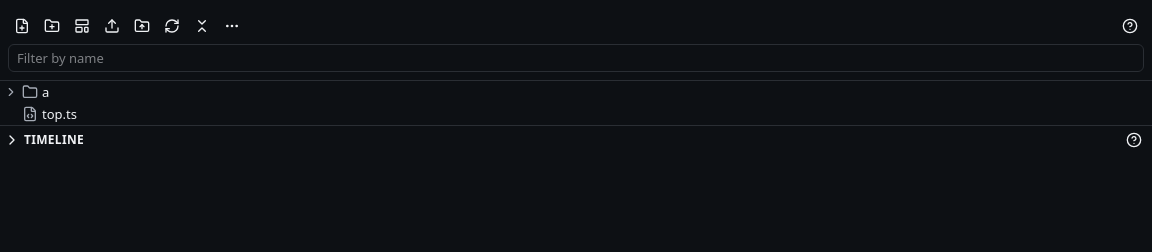
it: what the tree shows — B-25 › shows single folders together, and the preference shows them apart — S-164
Click the list item "a" at (27, 92), box [4, 83, 49, 101]
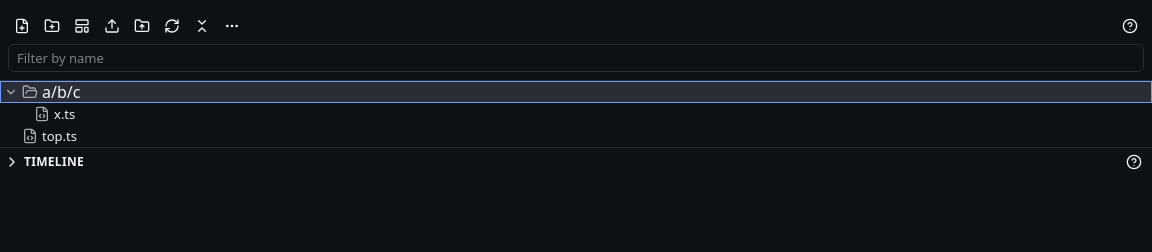
Click the button named "More options" at (232, 26), box [218, 12, 246, 40]
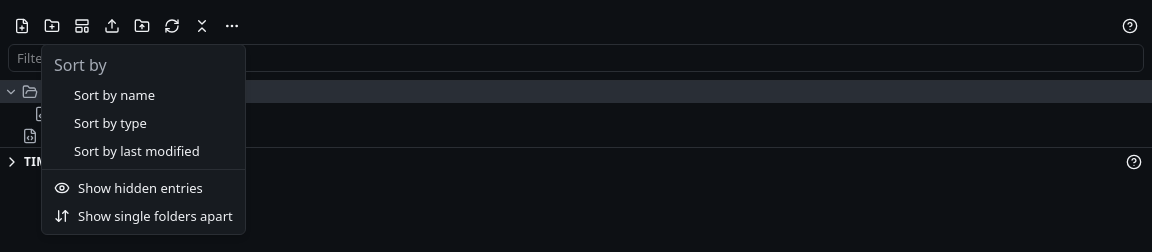
Click the menu item "Show single folders apart" at (143, 216), box [46, 202, 241, 230]
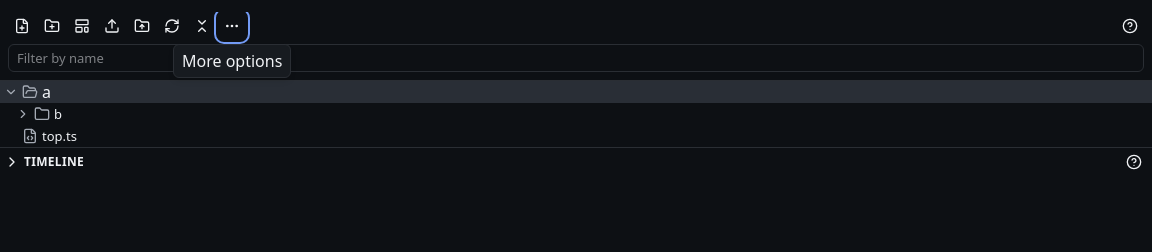
Now the list item "a" is expanded, box [0, 81, 1151, 103]
Now the list item "b" is collapsed, box [16, 105, 62, 123]
